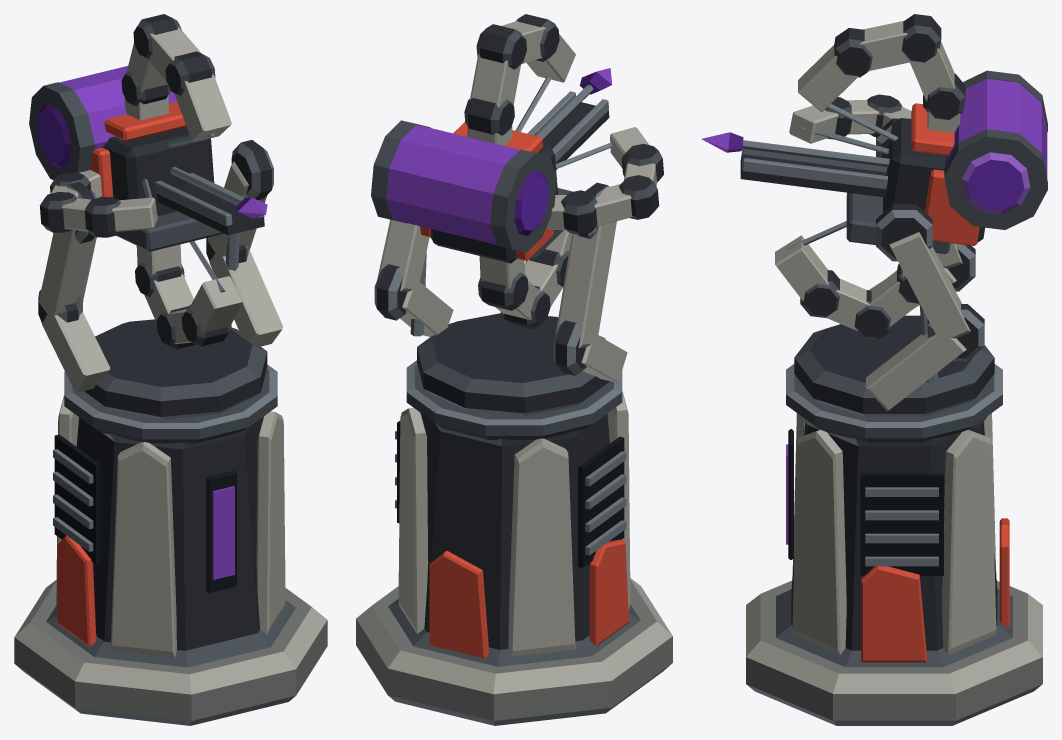
File: lv5_acide.glb
3 renders of one model, left to right at view 1: azimuth 30°, elevation 25°; view 2: azimuth 150°, elevation 25°; view 3: azimuth 270°, elevation 25°, orthographic.
Parts seen in each view (by area): view 1: Base, Barrel_Recoil, Turret_Yaw, Base_TeamColor, Team_Panels; view 2: Base, Barrel_Recoil, Turret_Yaw, Base_TeamColor, Team_Panels; view 3: Base, Barrel_Recoil, Turret_Yaw, Base_TeamColor, Team_Panels.
Boxes of the visible parts, x1,y1,x2,y2 form: Base: [14, 364, 327, 725]; Barrel_Recoil: [29, 14, 267, 349]; Turret_Yaw: [38, 140, 282, 419]; Base_TeamColor: [57, 535, 96, 646]; Team_Panels: [90, 102, 186, 196]; Base: [356, 360, 672, 725]; Barrel_Recoil: [371, 14, 663, 329]; Turret_Yaw: [374, 182, 627, 415]; Base_TeamColor: [429, 539, 628, 658]; Team_Panels: [420, 122, 553, 260]; Base: [746, 364, 1042, 725]; Barrel_Recoil: [701, 14, 1047, 339]; Turret_Yaw: [794, 118, 994, 416]; Base_TeamColor: [861, 518, 1009, 662]; Team_Panels: [911, 103, 979, 245].
Bounding box in the file's own units: 1.62 × 3.8 × 1.85.
